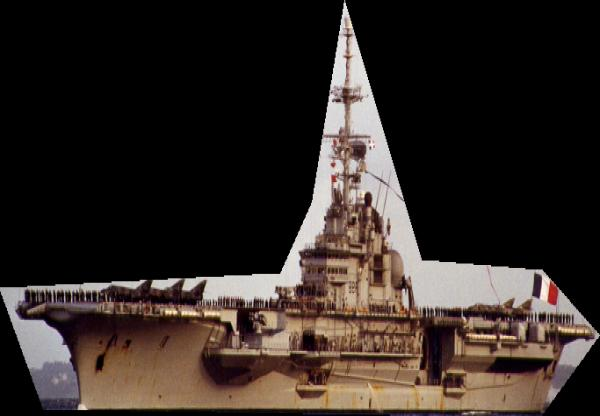Aircraft Carrier: (0, 0, 600, 416)
